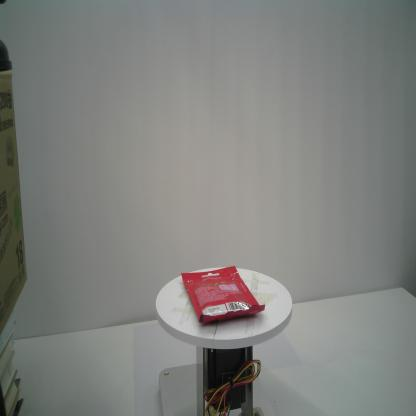Candy: (181, 266, 265, 324)
